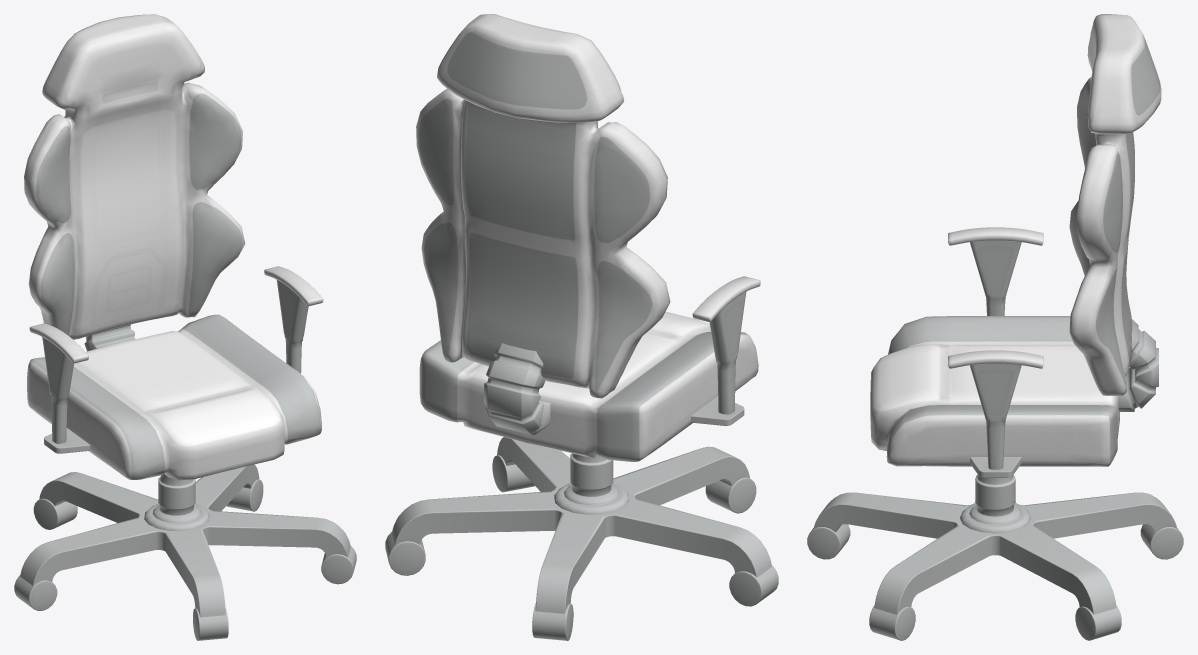
File: DeskChair03.FBX
The picture shows the model from 3 angles, left to right: view 1: azimuth 30°, elevation 25°; view 2: azimuth 150°, elevation 25°; view 3: azimuth 270°, elevation 25°; orthographic projection. The views are drawn at different scales.
Visible parts, largest first — view 1: DeskChair03; view 2: DeskChair03; view 3: DeskChair03.
Boxes of the visible parts, left/top/right/bottom form: DeskChair03: left=14, top=14, right=356, bottom=640; DeskChair03: left=385, top=14, right=778, bottom=640; DeskChair03: left=807, top=14, right=1183, bottom=640.
Size of what is drawn, in the model's own units: 0.8772 by 1.46 by 0.9224.
